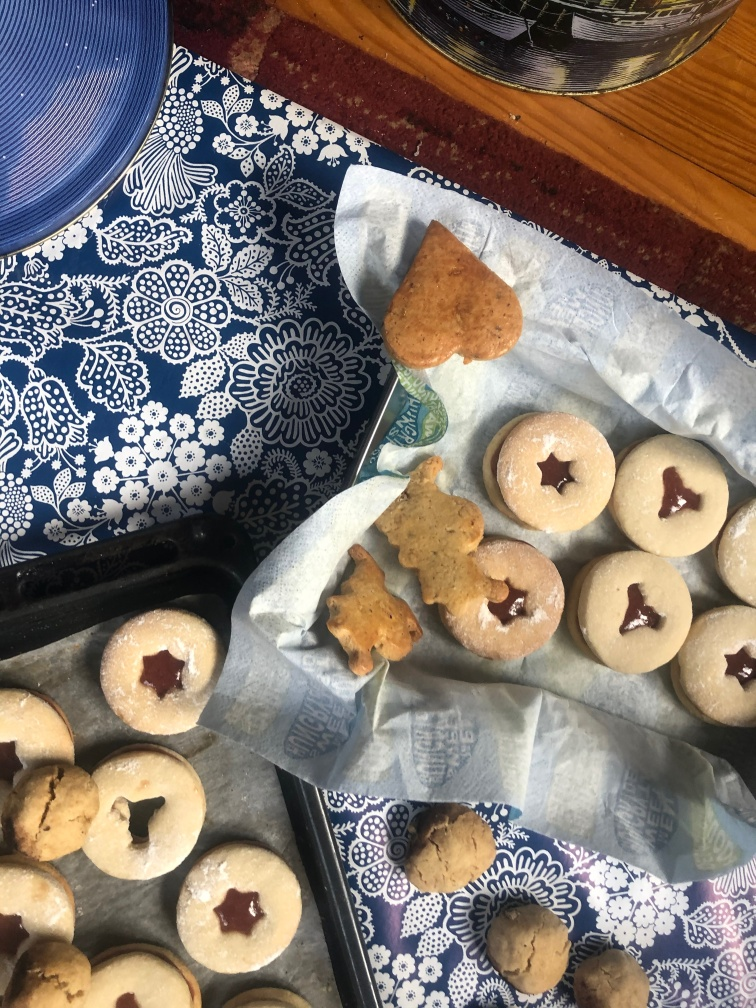christmas shortbread with jam: (177, 850, 312, 977), (484, 405, 614, 535), (94, 610, 222, 742), (617, 428, 734, 561), (95, 754, 205, 882), (449, 543, 572, 655), (584, 553, 693, 677), (684, 601, 756, 729), (99, 950, 201, 1008), (4, 867, 83, 934), (1, 689, 78, 756)
heart: (369, 216, 527, 377)
santa claus: (316, 537, 426, 688), (383, 451, 489, 605)
snowball: (473, 889, 567, 996), (10, 766, 101, 865), (396, 800, 492, 888), (4, 929, 91, 1006), (572, 932, 649, 1008)
